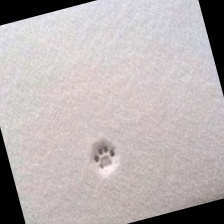cat: (89, 143, 121, 173)
